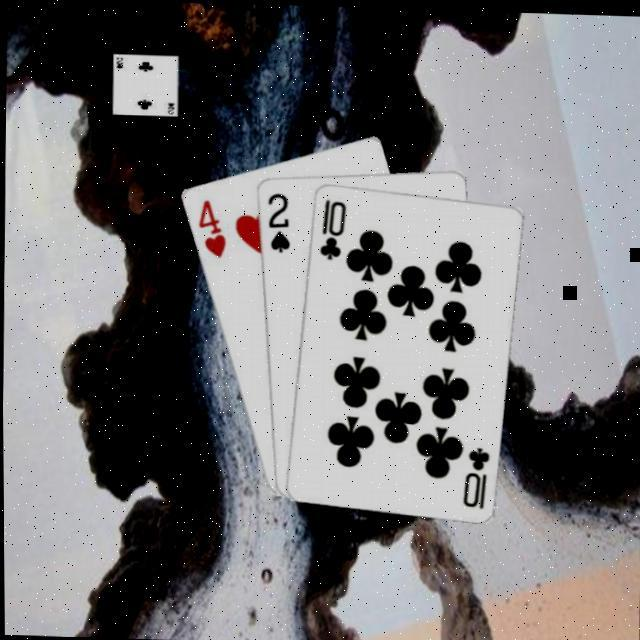10C: (455, 438, 489, 508), (312, 192, 346, 259)
2S: (262, 186, 290, 252)
4H: (190, 192, 227, 258)
